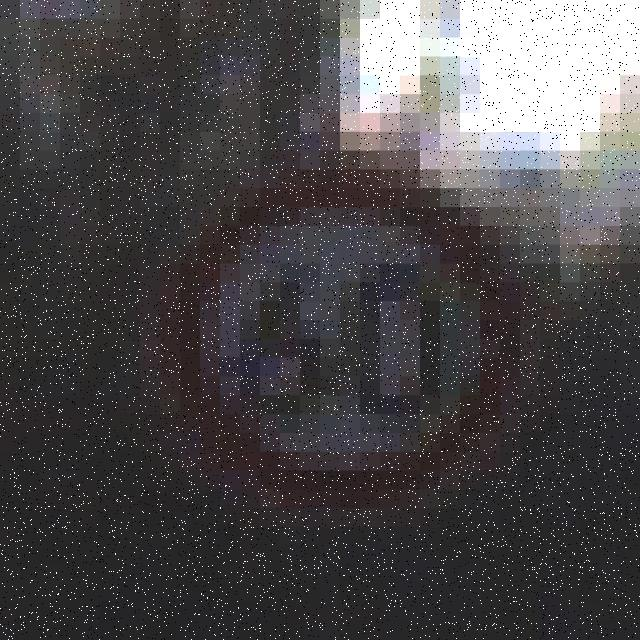Ograniczenie predkosci do 60: (37, 92, 640, 597)
